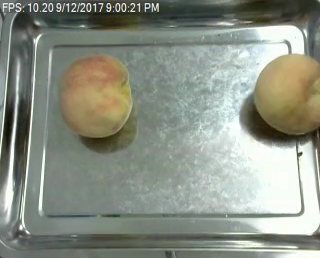Peach: (58, 52, 133, 138), (253, 52, 319, 135)
